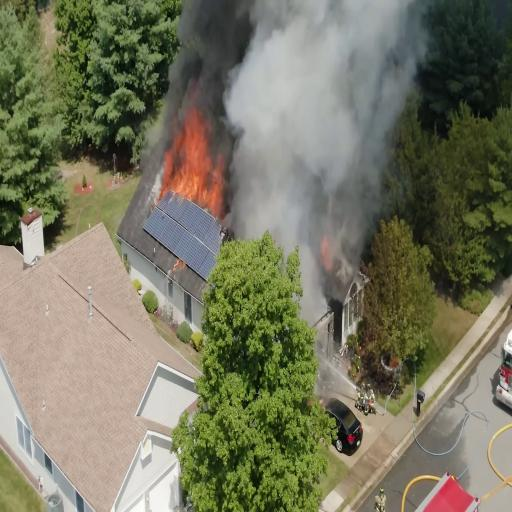fire: (167, 101, 226, 199)
smoke: (243, 10, 326, 242), (184, 5, 239, 104)
